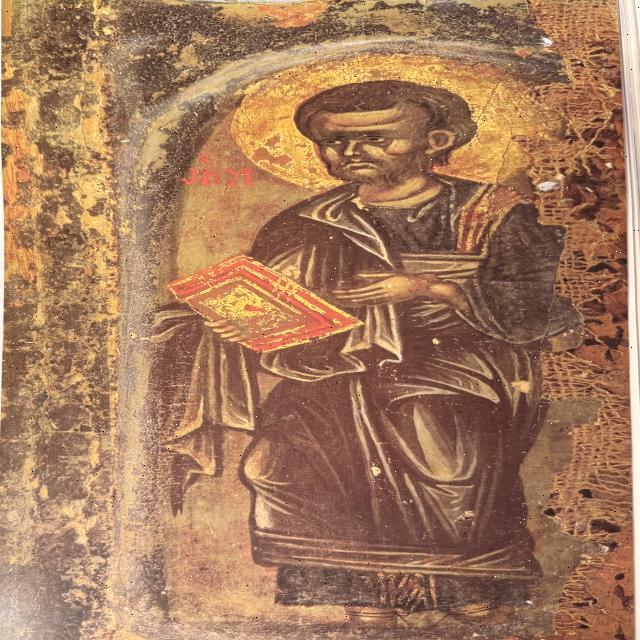aura: (227, 50, 566, 200)
book: (164, 257, 367, 353)
saint: (94, 49, 588, 608)
